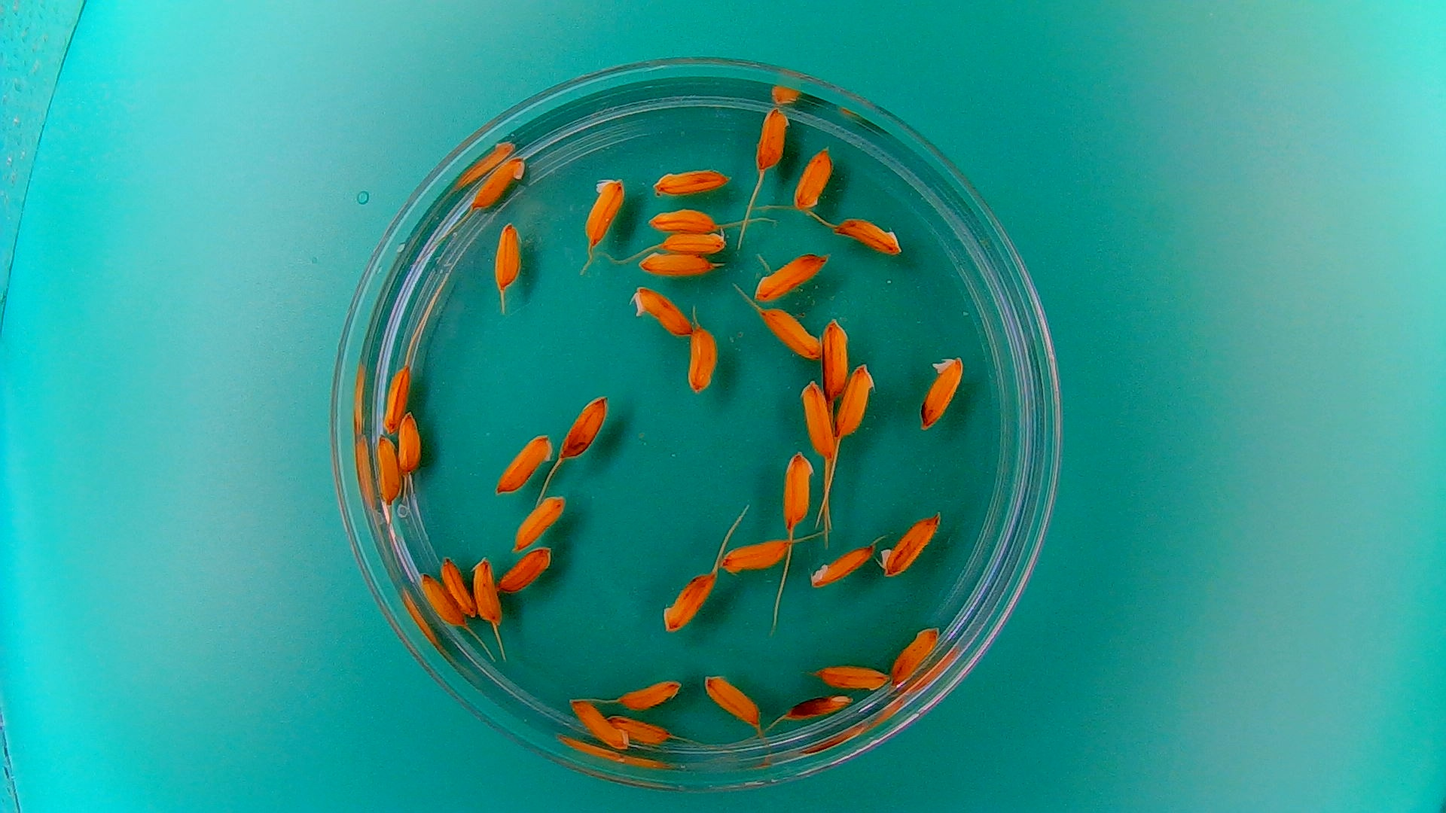no: (877, 509, 942, 578), (750, 248, 831, 303), (492, 429, 554, 496), (658, 568, 716, 635), (700, 670, 764, 730), (756, 303, 822, 361), (557, 391, 611, 460), (888, 621, 942, 689), (566, 695, 630, 751), (511, 492, 568, 553), (798, 378, 839, 461), (581, 174, 627, 247), (834, 361, 877, 439), (496, 541, 556, 594), (808, 541, 874, 589), (471, 153, 527, 209), (779, 449, 815, 531), (720, 534, 791, 575), (416, 568, 463, 629), (834, 215, 903, 256), (792, 144, 834, 211), (752, 102, 791, 172), (813, 659, 892, 693), (819, 315, 850, 401), (651, 163, 731, 196), (779, 690, 854, 725), (685, 323, 720, 396), (469, 553, 502, 628), (380, 363, 413, 435), (438, 553, 474, 617), (616, 677, 683, 711), (491, 220, 523, 291), (636, 248, 713, 277), (373, 432, 402, 508), (607, 714, 673, 744), (646, 206, 718, 232), (660, 228, 728, 254), (396, 410, 423, 474)
yes: (918, 352, 966, 430), (627, 283, 695, 338)
